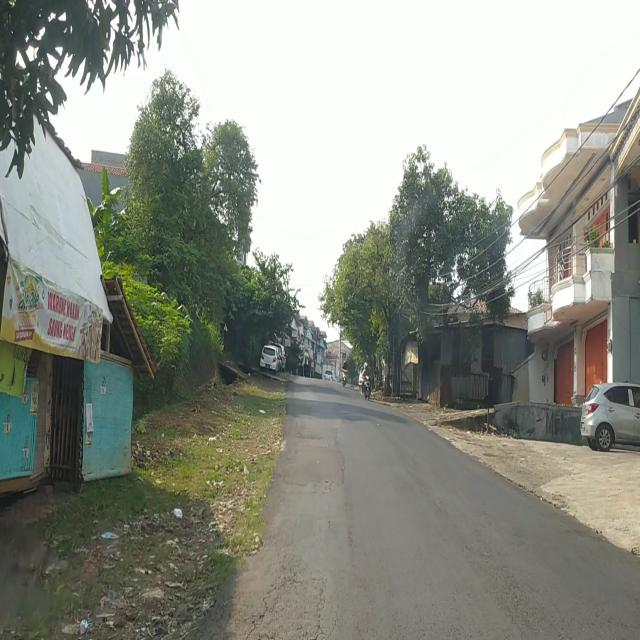Drain Hole: (249, 557, 338, 640)
